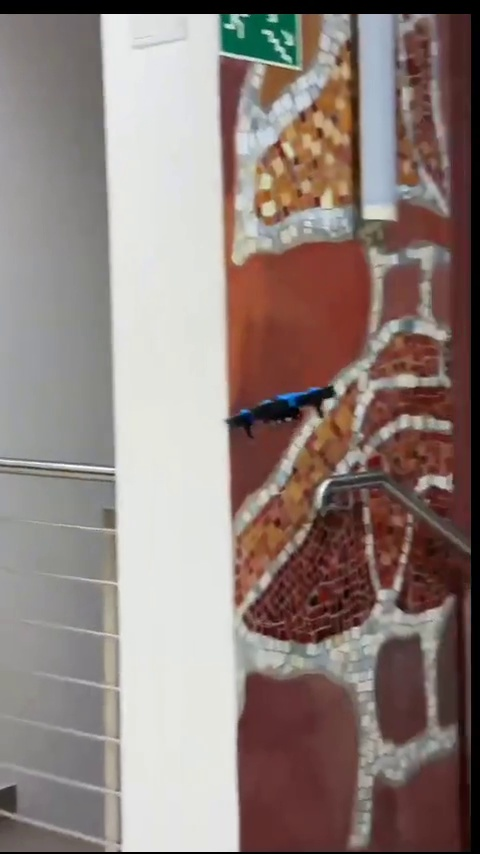drone: (228, 382, 333, 431)
